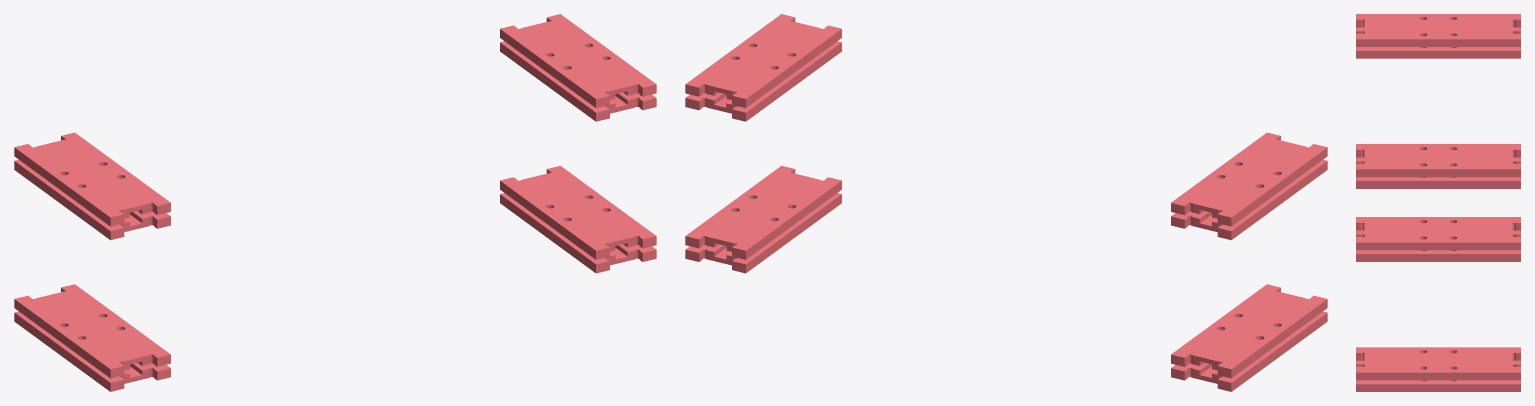
File: BATTERY MODULE V2__SPINE__SPINE BASE.glb
The picture shows the model from 3 angles, left to right: view 1: azimuth 30°, elevation 25°; view 2: azimuth 150°, elevation 25°; view 3: azimuth 270°, elevation 25°; orthographic projection. The views are drawn at different scales.
Visible parts, largest first — view 1: SPINE BASE 3, SPINE BASE 7, SPINE BASE 6, SPINE BASE 2, SPINE BASE 8, SPINE BASE 5, SPINE BASE 1, SPINE BASE 4; view 2: SPINE BASE 3, SPINE BASE 7, SPINE BASE 6, SPINE BASE 2, SPINE BASE 8, SPINE BASE 5, SPINE BASE 1, SPINE BASE 4; view 3: SPINE BASE 6, SPINE BASE 3, SPINE BASE 2, SPINE BASE 7, SPINE BASE 1, SPINE BASE 4, SPINE BASE 5, SPINE BASE 8.
Boxes of the visible parts, bbox=[...] form: SPINE BASE 3: bbox=[500, 14, 656, 107]; SPINE BASE 7: bbox=[14, 132, 170, 226]; SPINE BASE 6: bbox=[14, 284, 170, 378]; SPINE BASE 2: bbox=[500, 165, 656, 259]; SPINE BASE 8: bbox=[14, 311, 170, 391]; SPINE BASE 5: bbox=[14, 159, 170, 240]; SPINE BASE 1: bbox=[500, 41, 656, 121]; SPINE BASE 4: bbox=[500, 193, 656, 273]; SPINE BASE 3: bbox=[685, 14, 841, 107]; SPINE BASE 7: bbox=[1171, 132, 1327, 226]; SPINE BASE 6: bbox=[1171, 284, 1327, 378]; SPINE BASE 2: bbox=[685, 165, 841, 259]; SPINE BASE 8: bbox=[1171, 311, 1327, 391]; SPINE BASE 5: bbox=[1171, 159, 1327, 240]; SPINE BASE 1: bbox=[685, 41, 841, 121]; SPINE BASE 4: bbox=[685, 193, 841, 273]; SPINE BASE 6: bbox=[1356, 144, 1520, 177]; SPINE BASE 3: bbox=[1356, 217, 1520, 250]; SPINE BASE 2: bbox=[1356, 347, 1520, 380]; SPINE BASE 7: bbox=[1356, 14, 1520, 46]; SPINE BASE 1: bbox=[1356, 230, 1520, 261]; SPINE BASE 4: bbox=[1356, 360, 1520, 391]; SPINE BASE 5: bbox=[1356, 27, 1520, 58]; SPINE BASE 8: bbox=[1356, 157, 1520, 188].
Bounding box in the file's own units: 0.4007 × 0.1222 × 0.1222.
